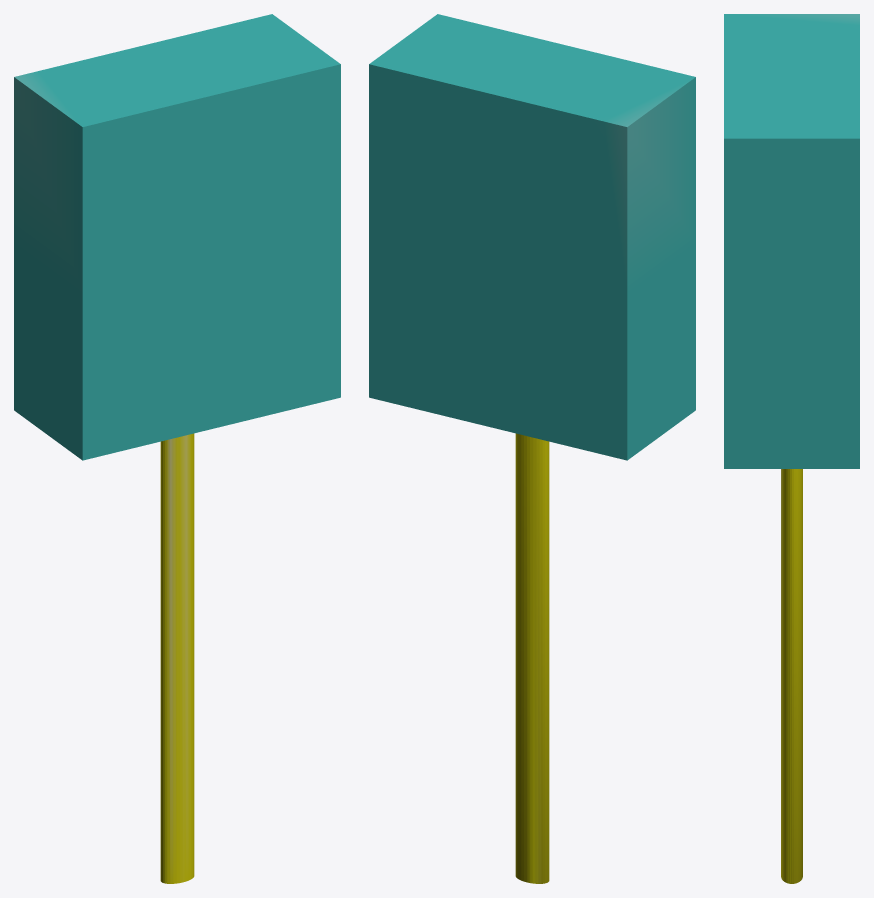
Rendered from ice-cream.glb.
3 views of the same model, side by side, from view 1: azimuth 30°, elevation 25°; view 2: azimuth 150°, elevation 25°; view 3: azimuth 270°, elevation 25° (orthographic).
Parts seen in each view (by area): view 1: Cube, Cylinder; view 2: Cube, Cylinder; view 3: Cube, Cylinder.
Part boxes in pixels (x1,y1,x2,y2): Cube: [14, 14, 340, 460]; Cylinder: [160, 433, 194, 883]; Cube: [369, 14, 695, 460]; Cylinder: [515, 433, 549, 883]; Cube: [724, 14, 859, 468]; Cylinder: [781, 469, 802, 883].
Size of the model in its own units: 6.19 by 18.49 by 2.85.
